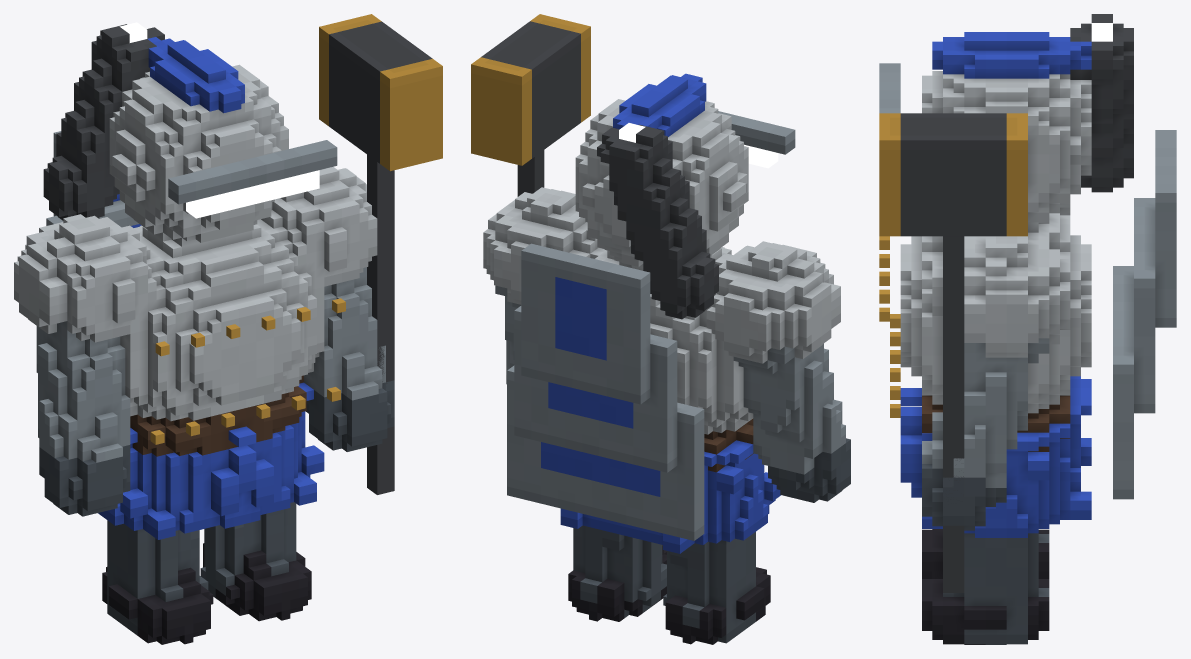
File: u_garde__artificier.glb
3 views of the same model, side by side, from view 1: azimuth 30°, elevation 25°; view 2: azimuth 150°, elevation 25°; view 3: azimuth 270°, elevation 25° (orthographic). The views are drawn at different scales.
Parts seen in each view (by area): view 1: garde_body, garde_weapon, garde_glow; view 2: garde_body, garde_weapon, garde_glow; view 3: garde_body, garde_weapon.
Boxes of the visible parts, left/top/right/bottom form: garde_body: left=14, top=24, right=394, bottom=644; garde_weapon: left=319, top=14, right=442, bottom=494; garde_glow: left=119, top=22, right=319, bottom=218; garde_body: left=483, top=73, right=850, bottom=644; garde_weapon: left=471, top=14, right=590, bottom=196; garde_glow: left=619, top=123, right=778, bottom=168; garde_body: left=879, top=14, right=1176, bottom=644; garde_weapon: left=879, top=113, right=1027, bottom=592.
Size of the model in its own units: 1 by 1.5 by 0.7.
